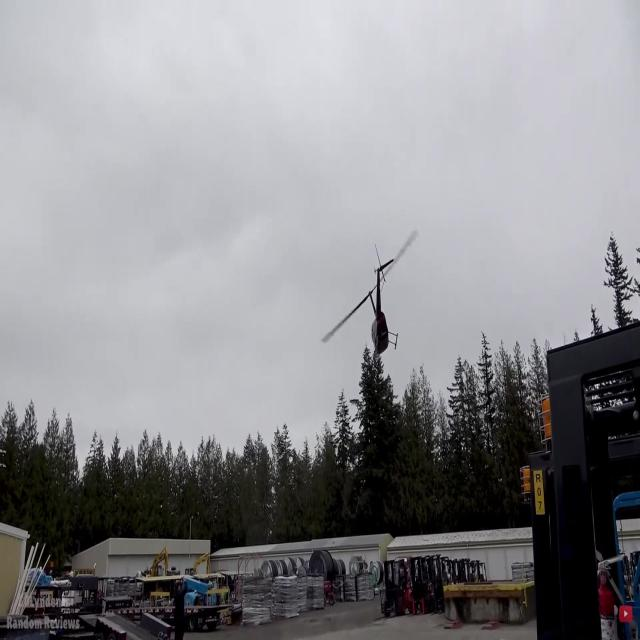CIV_HELO: (367, 244, 399, 383)
